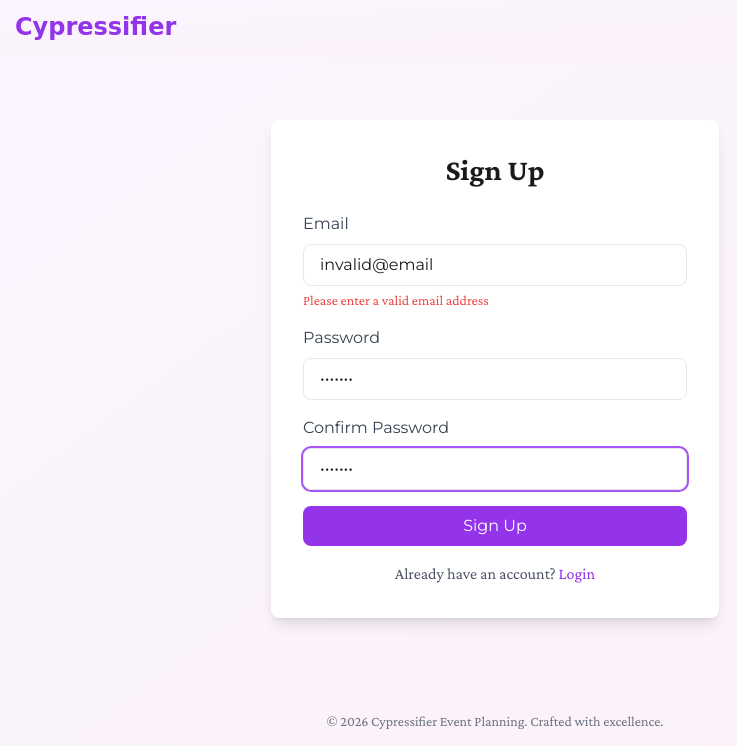
User Experience Flow › User Authentication › should error with no password
Clear the field with test id "signup-email-input" at point(495, 265), box x1=303 y1=244 x2=687 y2=286
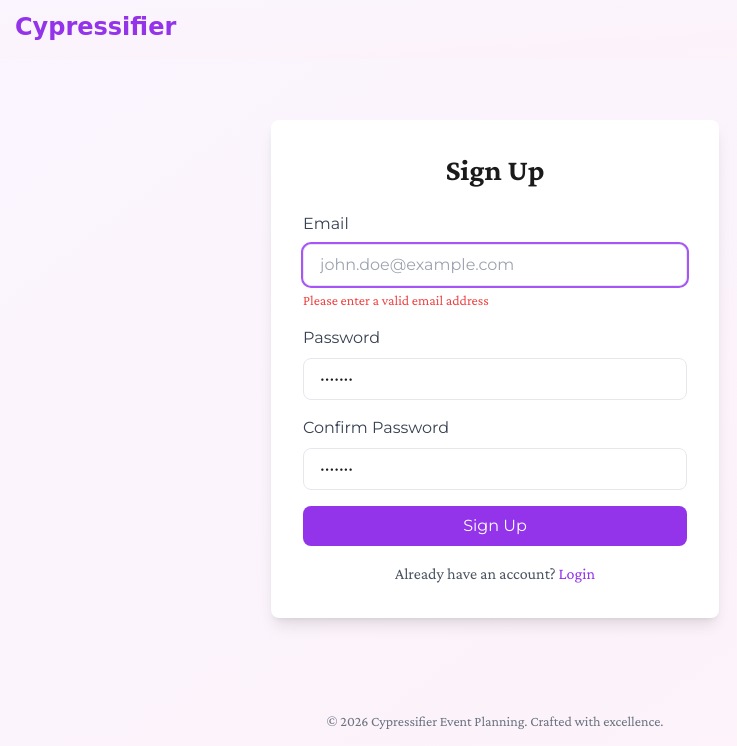
Clear the password field with test id "signup-password-input" at point(495, 379), box x1=303 y1=358 x2=687 y2=400
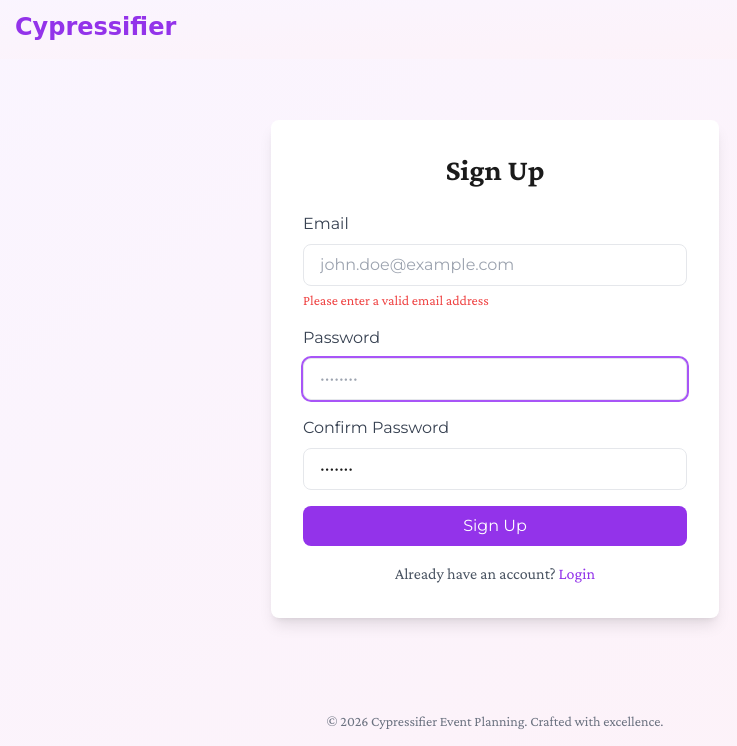
Clear the password field with test id "signup-confirm-password-input" at point(495, 469), box x1=303 y1=448 x2=687 y2=490
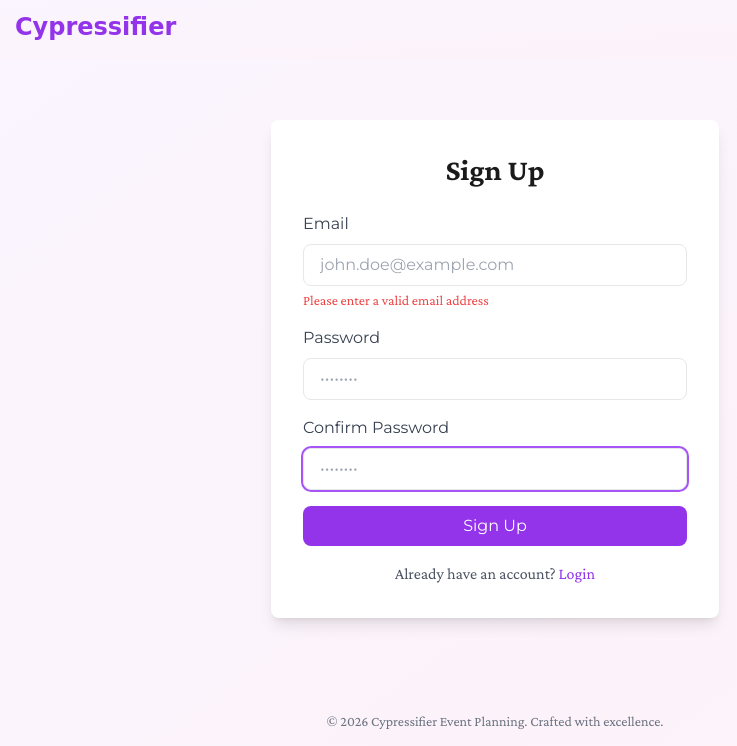
Type "jane.doe@example.com" into the field with test id "signup-email-input" at point(495, 265), box x1=303 y1=244 x2=687 y2=286
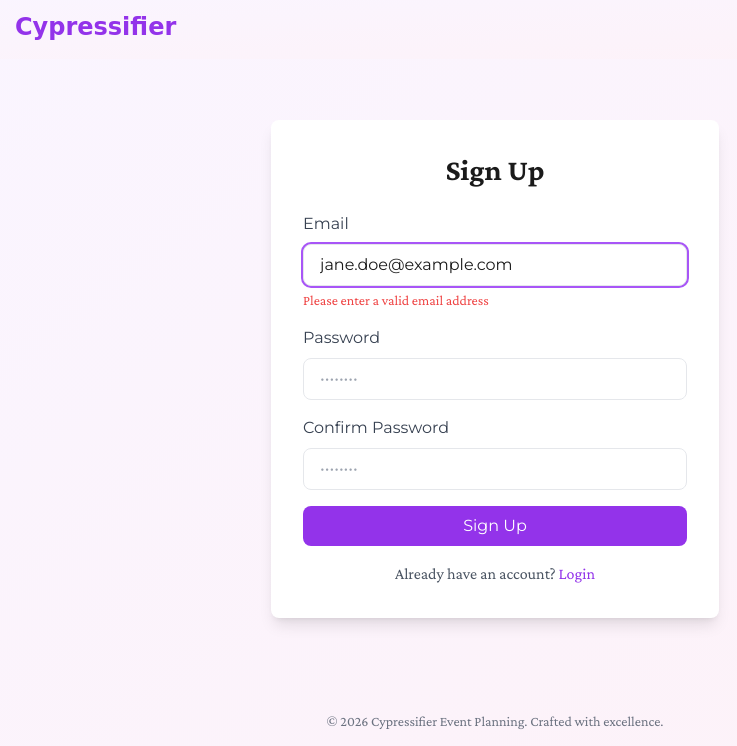
Submit the form, box x1=303 y1=212 x2=687 y2=546
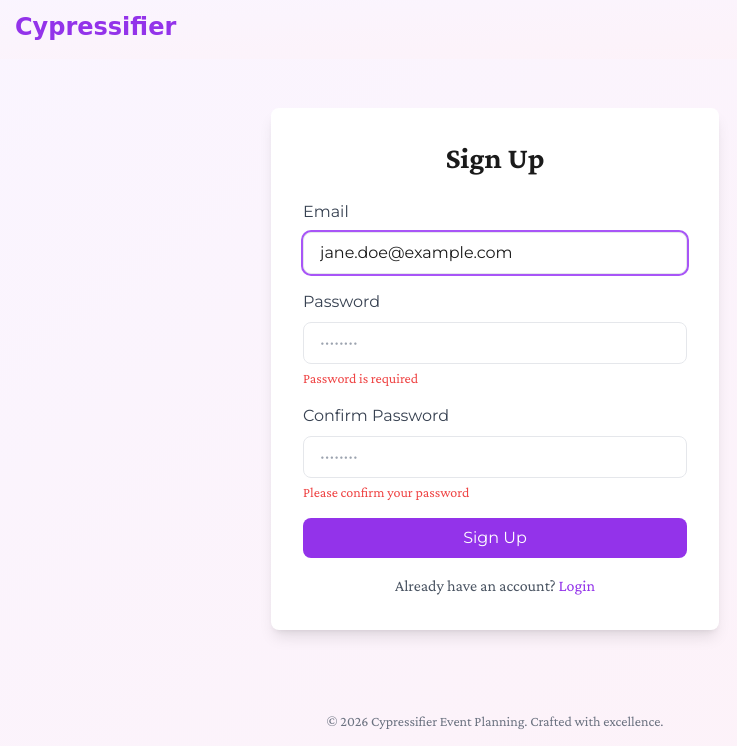
Now the text with test id "signup-password-error" reads "Password is required", box x1=303 y1=370 x2=418 y2=386
